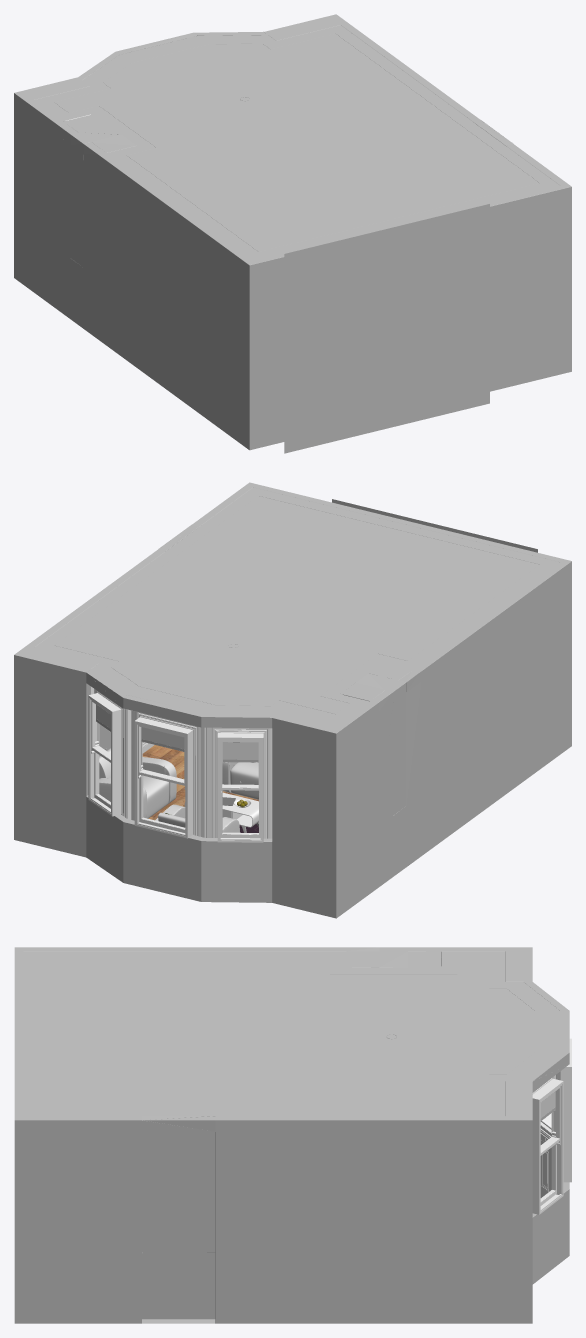
Rendered from living-room.glb.
3 renders of one model, top to bottom at view 1: azimuth 30°, elevation 25°; view 2: azimuth 150°, elevation 25°; view 3: azimuth 270°, elevation 25°, orthographic. The views are drawn at different scales.
Visible parts, largest first — view 1: 125_Walls, 121_Walls, 01_Walls; view 2: 125_Walls, 121_Walls, 129_WhitePaint, 131_WhitePaint, 126_WhitePaint, 130_WhitePaint, 127_WhitePaint, 128_WhitePaint, 122_Floor, 134_SofaLeather, 01_Walls, 139_SofaLeather (+4 smaller); view 3: 125_Walls, 121_Walls, 126_WhitePaint, 130_WhitePaint, 127_WhitePaint.
Part boxes in pixels (x1=…): 125_Walls: x1=14, y1=14, x2=571, y2=450; 121_Walls: x1=34, y1=25, x2=559, y2=260; 01_Walls: x1=284, y1=204, x2=489, y2=453; 125_Walls: x1=14, y1=482, x2=571, y2=918; 121_Walls: x1=34, y1=487, x2=559, y2=722; 129_WhitePaint: x1=205, y1=727, x2=272, y2=838; 131_WhitePaint: x1=131, y1=710, x2=205, y2=837; 126_WhitePaint: x1=88, y1=693, x2=122, y2=816; 130_WhitePaint: x1=134, y1=717, x2=193, y2=838; 127_WhitePaint: x1=91, y1=686, x2=131, y2=819; 128_WhitePaint: x1=217, y1=732, x2=263, y2=842; 122_Floor: x1=142, y1=745, x2=258, y2=820; 134_SofaLeather: x1=99, y1=757, x2=176, y2=818; 01_Walls: x1=332, y1=499, x2=537, y2=552; 139_SofaLeather: x1=230, y1=762, x2=258, y2=799; 125_Walls: x1=14, y1=947, x2=569, y2=1323; 121_Walls: x1=23, y1=951, x2=560, y2=1116; 126_WhitePaint: x1=532, y1=1078, x2=563, y2=1214; 130_WhitePaint: x1=560, y1=1038, x2=571, y2=1182; 127_WhitePaint: x1=532, y1=1071, x2=560, y2=1205.
Bounding box in the file's own units: 5.73 × 3.39 × 7.81.
Materials: 47 (17 with a texture image).
